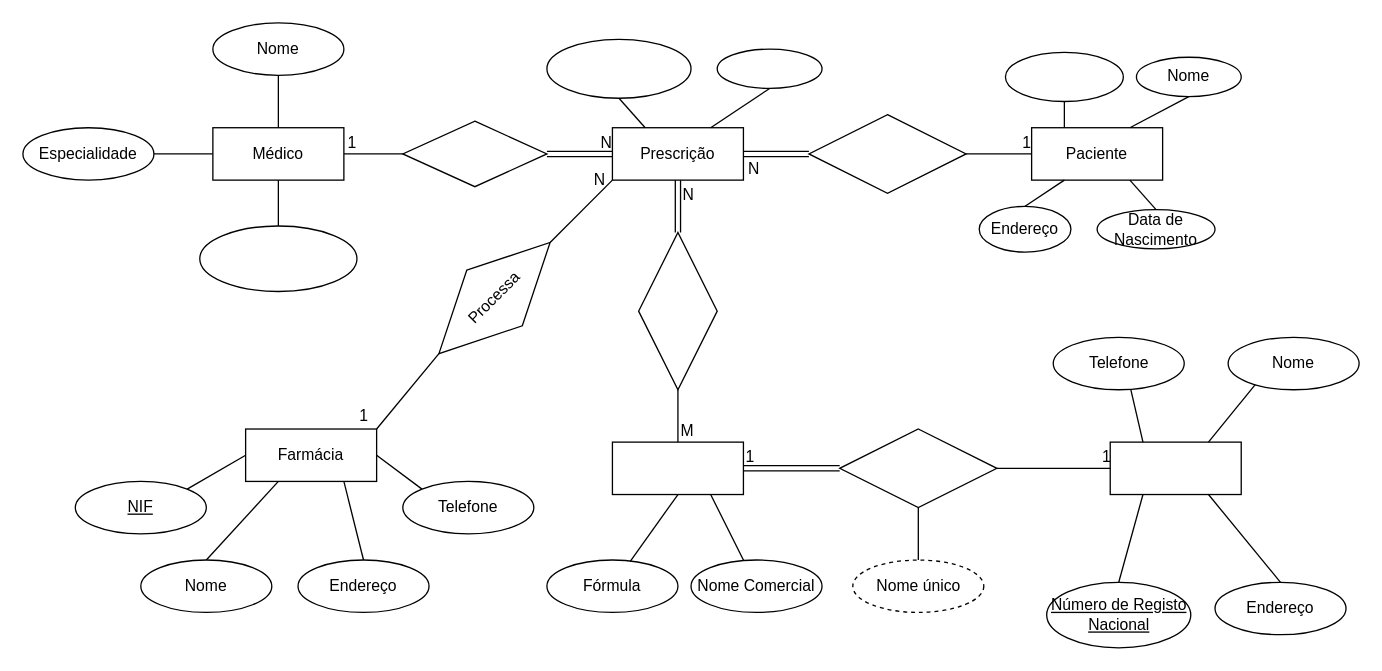
Image size: 1382x671. Some labels were removed from this diagram. Here are the shapes that lost their labels. From the top down, the centre of each, then its label:
[618,68]: Número único de prescrição
[769,68]: Data
[1063,76]: Número de útente
[474,153]: Emite
[887,153]: Pertence a
[277,258]: Número de identificação de SNS
[677,310]: tem
[677,468]: Fármaco
[917,468]: Produzido por
[1175,468]: Farmacêutica
